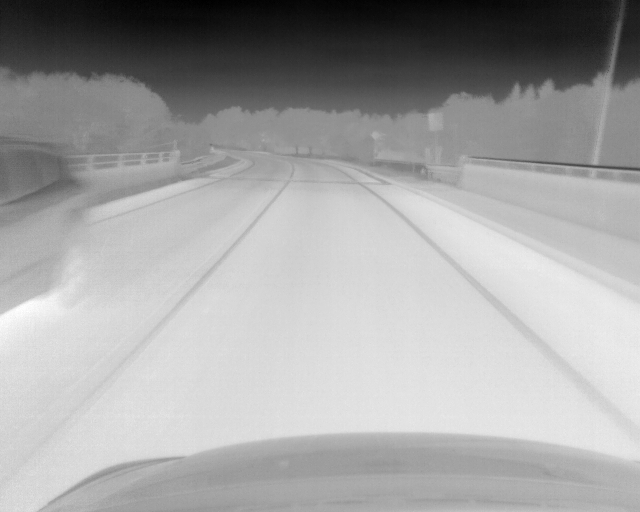car: (1, 136, 93, 318)
